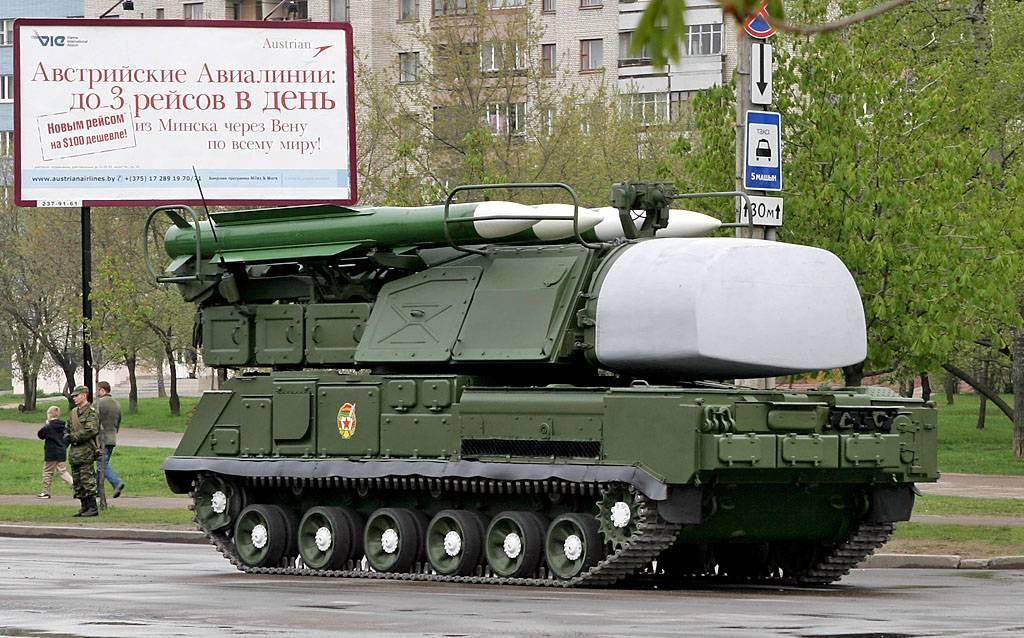person: (68, 386, 107, 520)
rszo: (142, 180, 955, 580)
